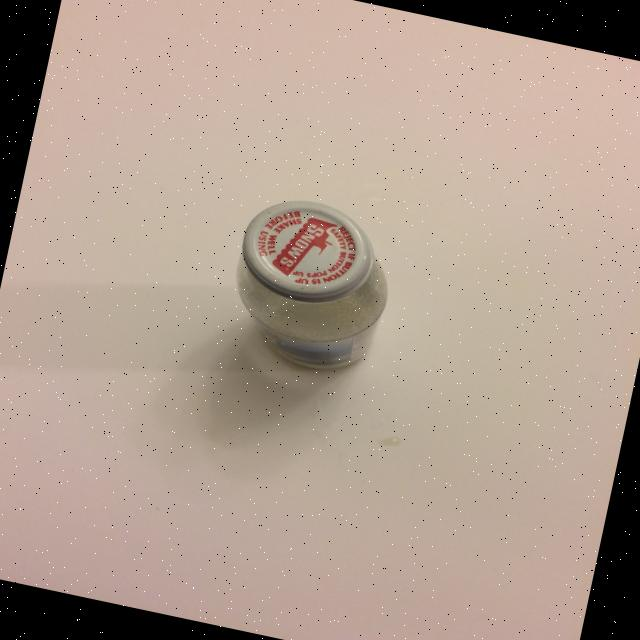glass: (200, 180, 412, 395)
